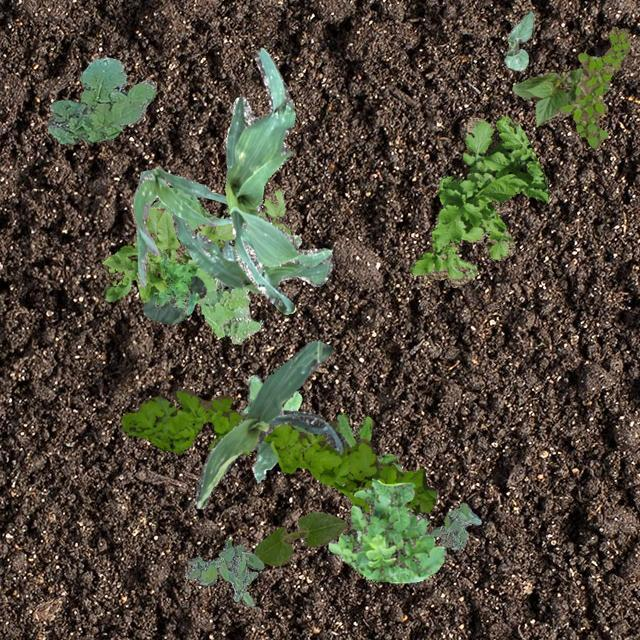crop: (224, 46, 332, 314), (193, 340, 344, 508), (170, 209, 332, 293), (132, 167, 230, 286), (512, 68, 608, 126), (252, 510, 346, 564), (142, 274, 206, 324), (503, 10, 532, 70)
weed: (120, 388, 436, 514), (408, 115, 548, 286), (100, 188, 290, 300), (150, 186, 260, 342), (328, 478, 444, 582), (46, 56, 154, 144), (558, 25, 628, 146), (238, 374, 310, 482), (184, 536, 264, 606), (335, 410, 401, 472), (152, 250, 198, 314), (430, 502, 480, 550)
